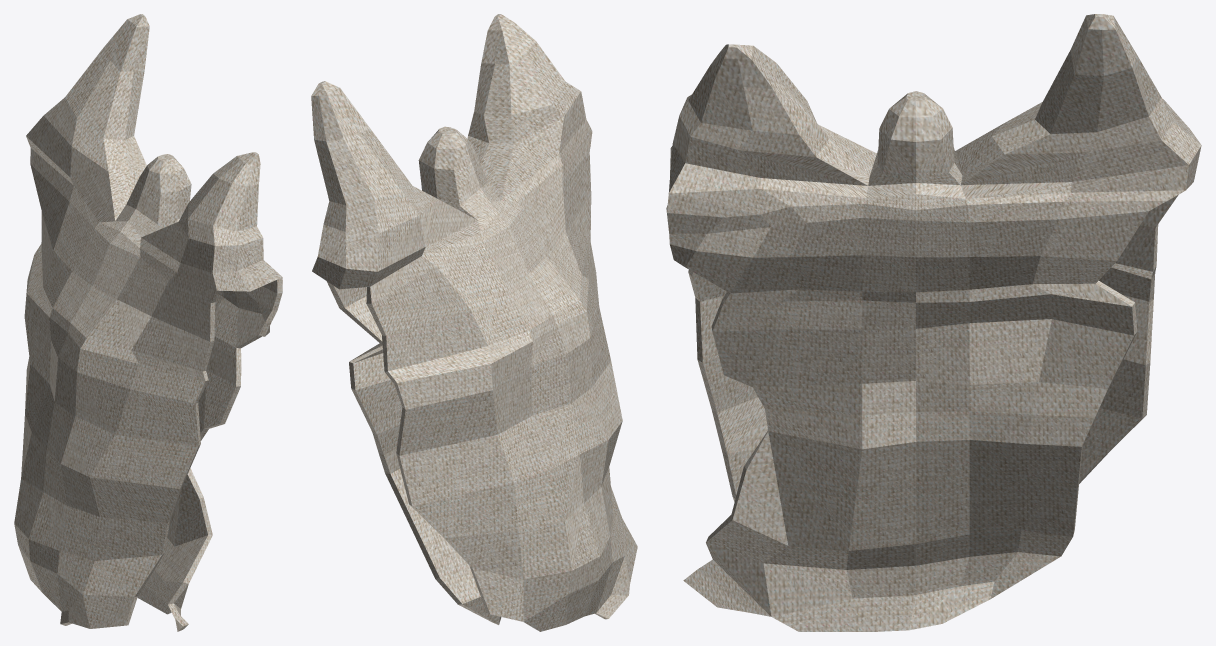
File: phantom.obj
The picture shows the model from 3 angles, left to right: view 1: azimuth 30°, elevation 25°; view 2: azimuth 150°, elevation 25°; view 3: azimuth 270°, elevation 25°; orthographic projection. The views are drawn at different scales.
Parts seen in each view (by area): view 1: ps1_phantom; view 2: ps1_phantom; view 3: ps1_phantom.
Part boxes in pixels (left/top/right/bottom): ps1_phantom: left=14, top=14, right=282, bottom=631; ps1_phantom: left=311, top=14, right=637, bottom=631; ps1_phantom: left=666, top=14, right=1201, bottom=631.
Bounding box in the file's own units: 0.7379 × 1.92 × 1.36.
1 material, 1 textured.
